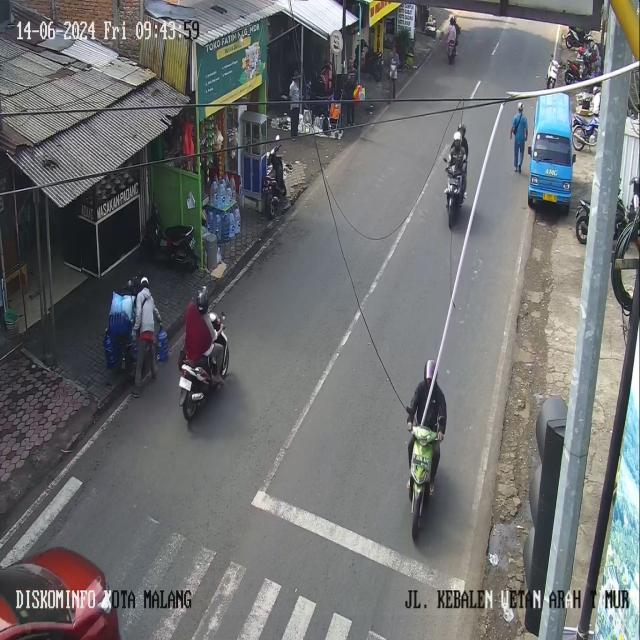Helmet: (195, 287, 209, 314), (424, 359, 435, 381), (211, 313, 221, 330), (458, 123, 465, 137), (453, 130, 461, 141), (140, 276, 148, 287), (593, 86, 600, 95), (517, 102, 523, 111), (449, 16, 454, 24)
Number Plate: (179, 377, 191, 390), (543, 193, 557, 202)
Rearview Mirror: (572, 153, 576, 163), (527, 146, 531, 155), (275, 134, 279, 140)
